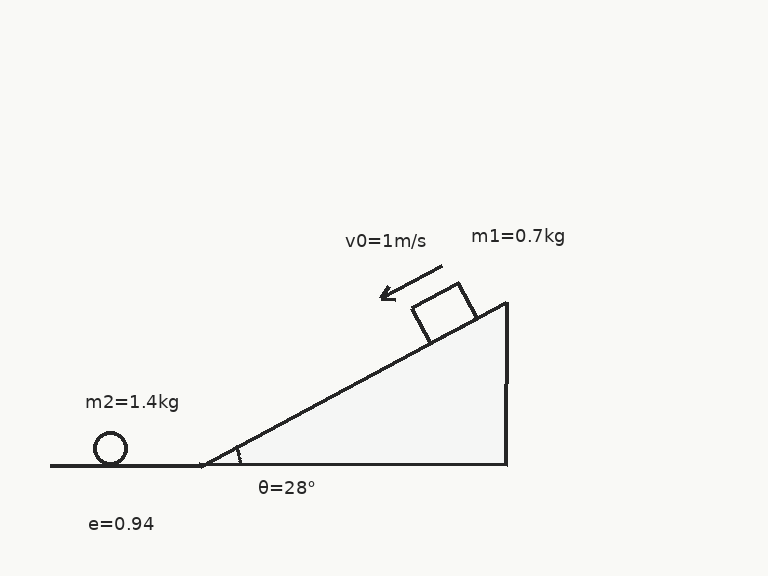ball: (91, 429, 129, 467)
block: (409, 281, 479, 345)
ramp: (198, 300, 508, 467)
